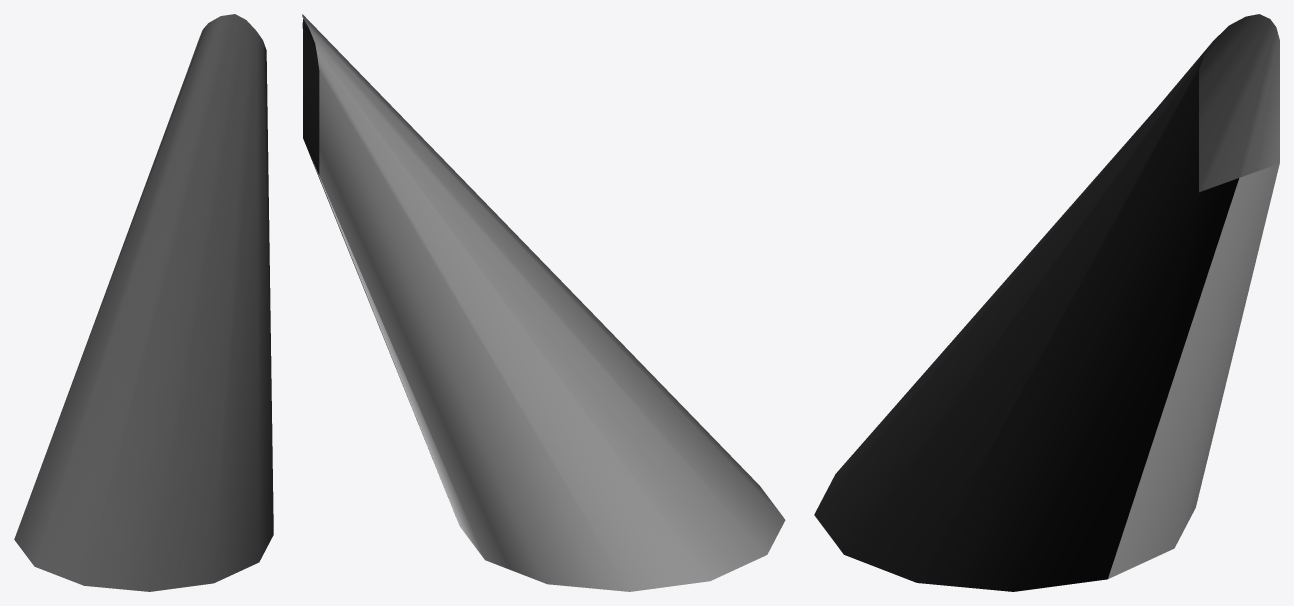
The model's file is Ventana1.fbx.
The picture shows the model from 3 angles, left to right: view 1: azimuth 30°, elevation 25°; view 2: azimuth 150°, elevation 25°; view 3: azimuth 270°, elevation 25°; orthographic projection. The views are drawn at different scales.
Visible parts, largest first — view 1: Ventana1_luz; view 2: Ventana1_luz; view 3: Ventana1_luz.
Part boxes in pixels (left/top/right/bottom): Ventana1_luz: left=14, top=14, right=273, bottom=591; Ventana1_luz: left=302, top=14, right=785, bottom=591; Ventana1_luz: left=814, top=14, right=1279, bottom=591.
Size of the model in its own units: 5.71 by 7.64 by 5.21.
